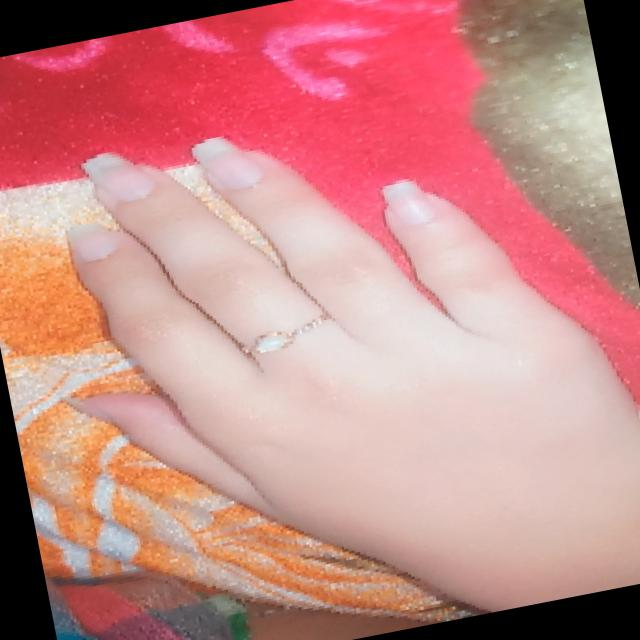Nail: (193, 137, 261, 188), (83, 152, 152, 201), (383, 180, 434, 225), (69, 223, 115, 261)
